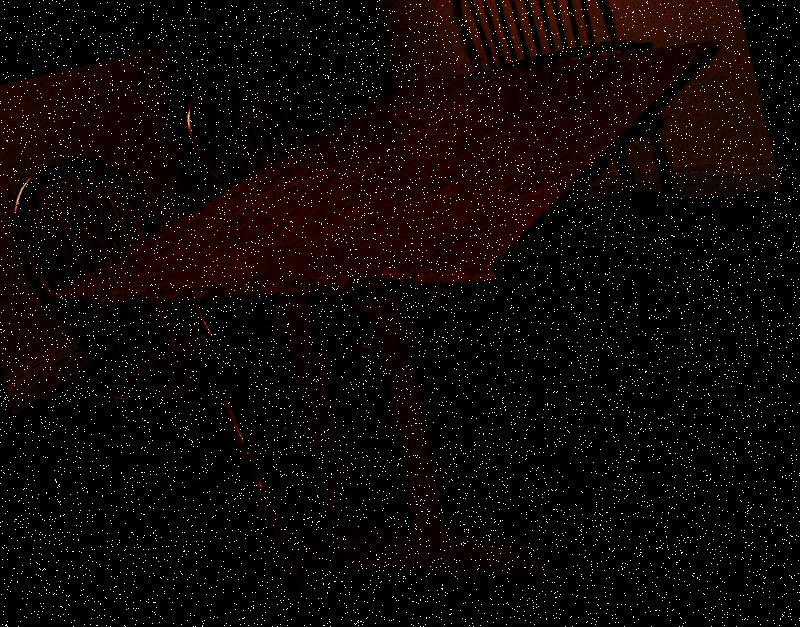Mesa: (8, 0, 799, 626)
Silla: (0, 91, 421, 626), (174, 25, 510, 450), (440, 0, 709, 308)
